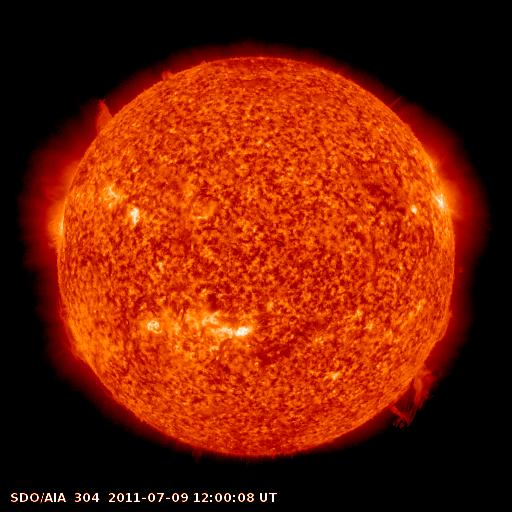prominence: (377, 360, 444, 430), (47, 293, 89, 370), (83, 90, 125, 144), (424, 306, 459, 349), (156, 60, 180, 87)
